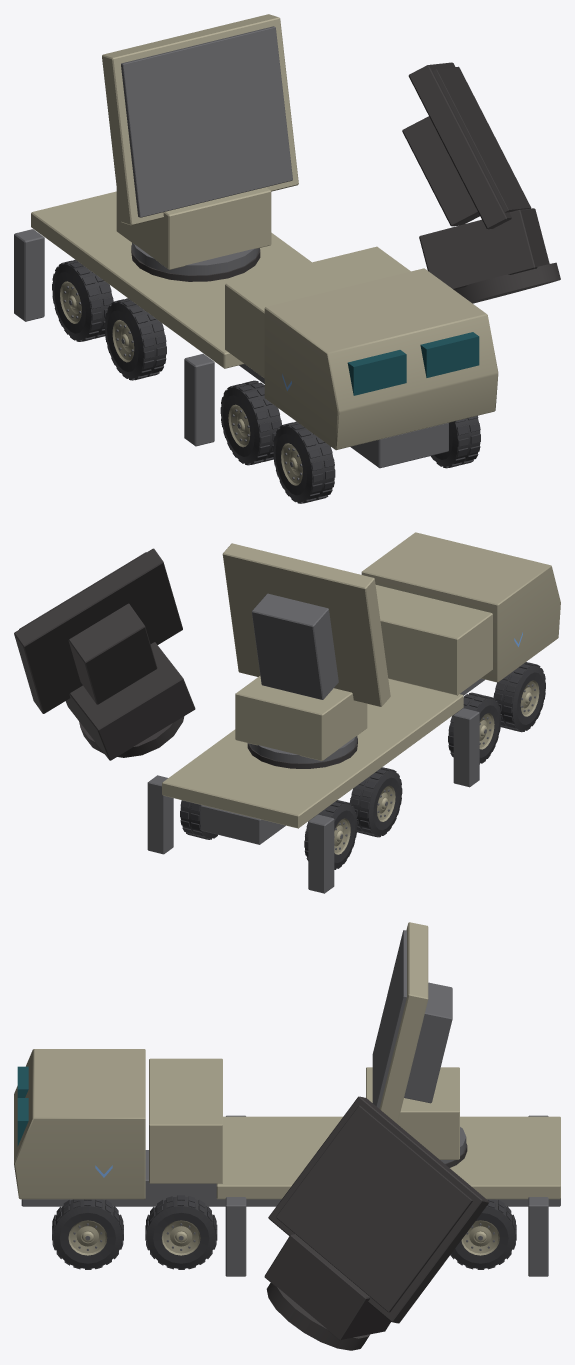
The model's file is counterBatteryRadar__elm_2084_mmr.glb.
The picture shows the model from 3 angles, top to bottom: view 1: azimuth 30°, elevation 25°; view 2: azimuth 150°, elevation 25°; view 3: azimuth 270°, elevation 25°; orthographic projection. The views are drawn at different scales.
Visible parts, largest first — view 1: Hull_Mesh, Gun_Mesh, Wreck, Turret_Mesh, Wheel_L1_Mesh, Wheel_L3_Mesh, Wheel_L2_Mesh, Wheel_L0_Mesh, Wheel_R3_Mesh; view 2: Hull_Mesh, Wreck, Gun_Mesh, Turret_Mesh, Wheel_L1_Mesh, Wheel_L3_Mesh, Wheel_L2_Mesh, Wheel_L0_Mesh, Wheel_R0_Mesh; view 3: Hull_Mesh, Wreck, Gun_Mesh, Wheel_R2_Mesh, Wheel_R3_Mesh, Turret_Mesh, Wheel_R0_Mesh.
Part boxes in pixels (x1,y1,x2,y2): Hull_Mesh: (14,191,498,468); Gun_Mesh: (102,14,298,225); Wreck: (67,62,560,502); Turret_Mesh: (116,187,271,275); Wheel_L1_Mesh: (104,298,166,380); Wheel_L3_Mesh: (273,421,335,503); Wheel_L2_Mesh: (220,380,281,465); Wheel_L0_Mesh: (52,259,113,341); Wheel_R3_Mesh: (430,415,480,468); Hull_Mesh: (147,532,560,893); Wreck: (14,548,524,869); Gun_Mesh: (222,543,390,706); Turret_Mesh: (235,676,367,763); Wheel_L1_Mesh: (349,767,402,837); Wheel_L3_Mesh: (493,662,545,732); Wheel_L2_Mesh: (448,692,501,764); Wheel_L0_Mesh: (304,800,357,869); Wheel_R0_Mesh: (180,800,217,839); Hull_Mesh: (14,1049,560,1276); Wreck: (264,1096,489,1350); Gun_Mesh: (372,922,452,1123); Wheel_R2_Mesh: (145,1195,217,1269); Wheel_R3_Mesh: (52,1199,123,1269); Turret_Mesh: (366,1067,466,1163); Wheel_R0_Mesh: (450,1199,516,1269).
Size of what is drawn, in the model's own units: 6.85 by 4.72 by 8.5.
